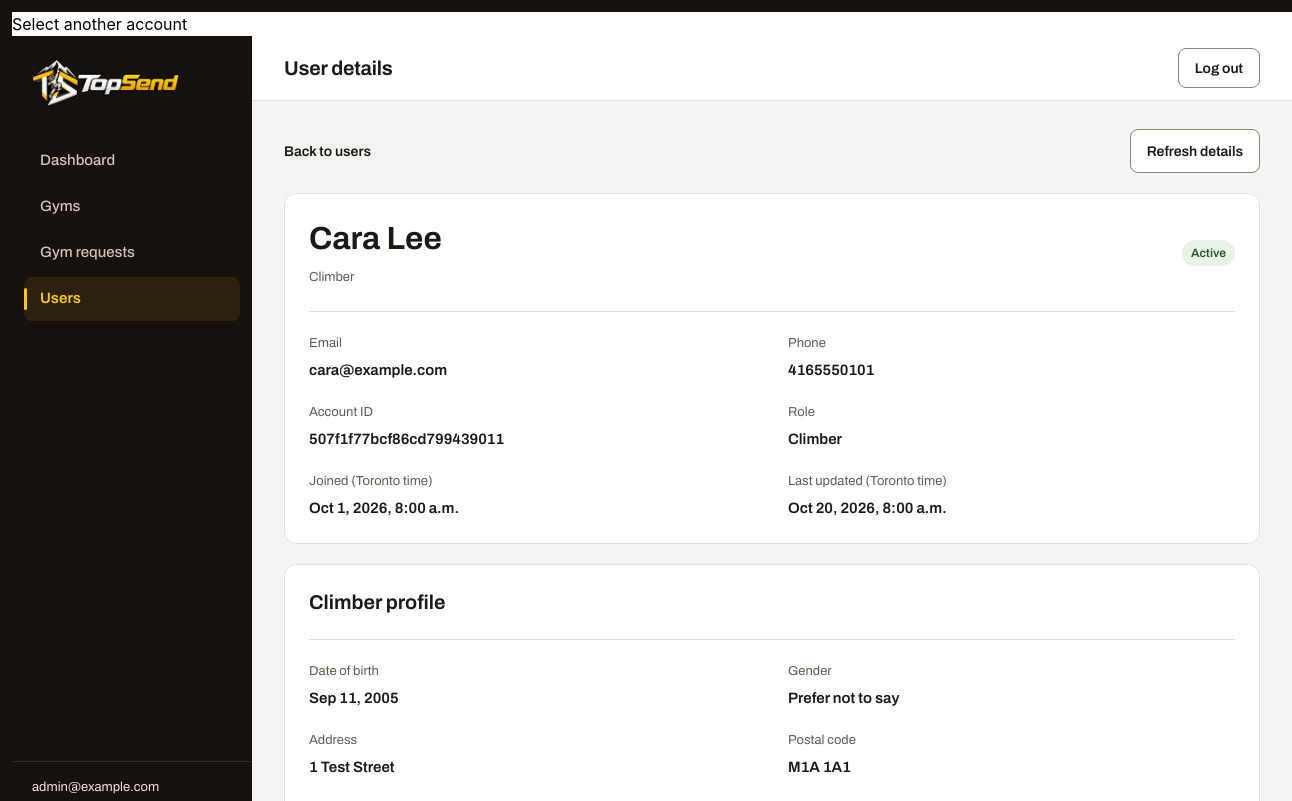
US-008 selection and US-009 selected account information › loads fresh saved data on refresh and preserves the return filters
Expected: the element named "Selected user account" is shown, 284,193 -> 1260,544
Click the button "Refresh details" at (1195,151), box 1130,129 -> 1260,173
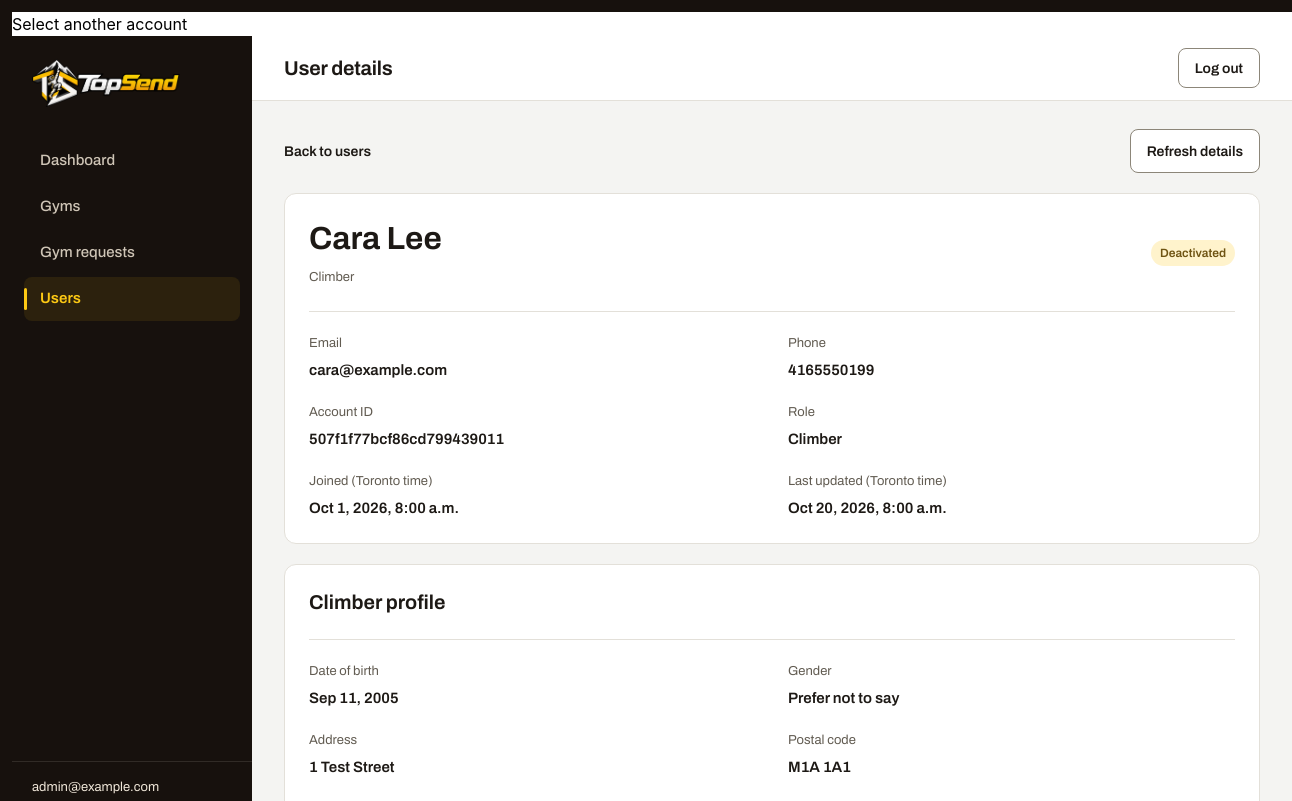
Expected: the text "Deactivated" is shown, 1151,240 -> 1235,266
Expected: the text "4165550199" is shown, 788,362 -> 874,378
